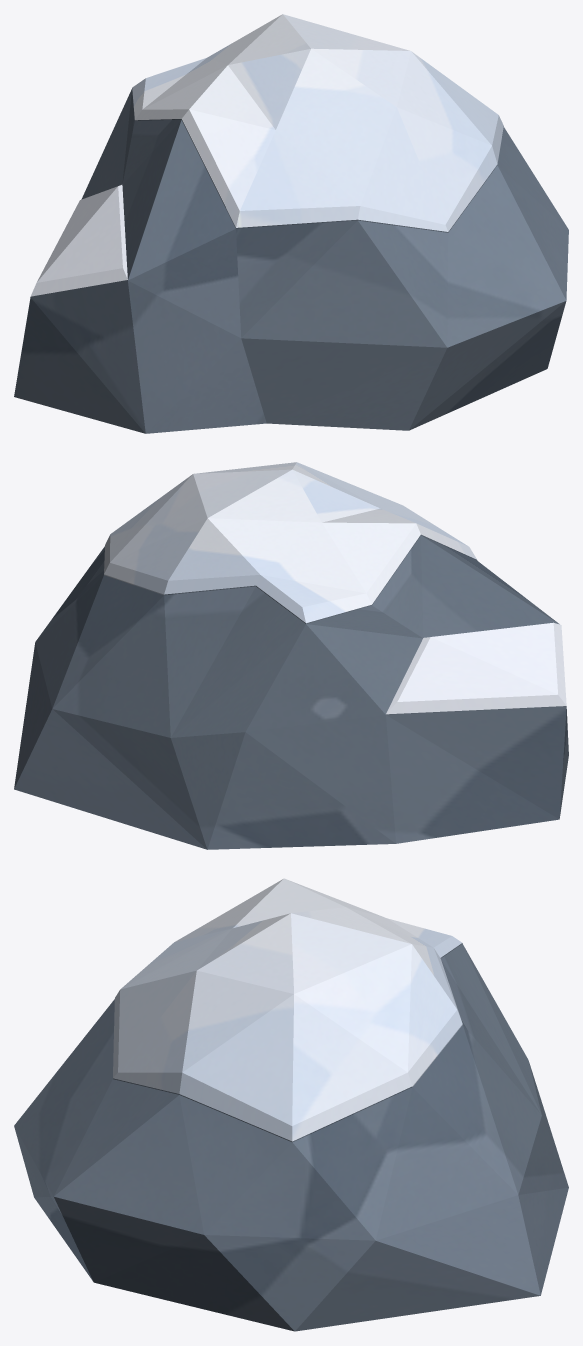
The model's file is Rock_1.fbx.
The picture shows the model from 3 angles, top to bottom: view 1: azimuth 30°, elevation 25°; view 2: azimuth 150°, elevation 25°; view 3: azimuth 270°, elevation 25°; orthographic projection. The views are drawn at different scales.
Parts seen in each view (by area): view 1: Icosphere; view 2: Icosphere; view 3: Icosphere.
Part boxes in pixels (x1,y1,x2,y2): Icosphere: (14,14,568,433); Icosphere: (14,462,568,849); Icosphere: (14,878,568,1331).
Bounding box in the file's own units: 2.19 × 1.14 × 1.92.
